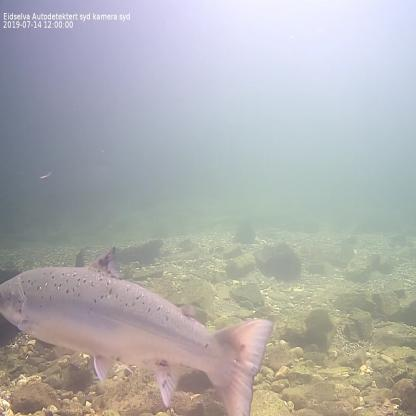salmon: (0, 243, 276, 415)
